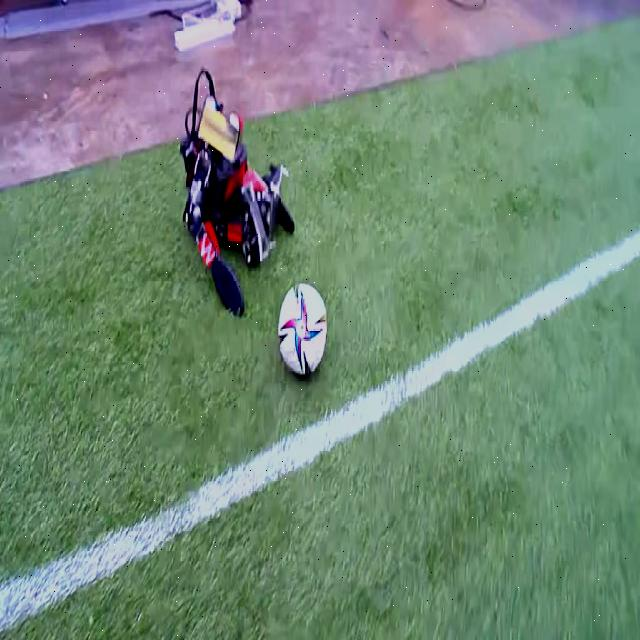ball: (278, 280, 327, 378)
